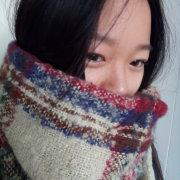WRONG: (56, 14, 154, 127)
